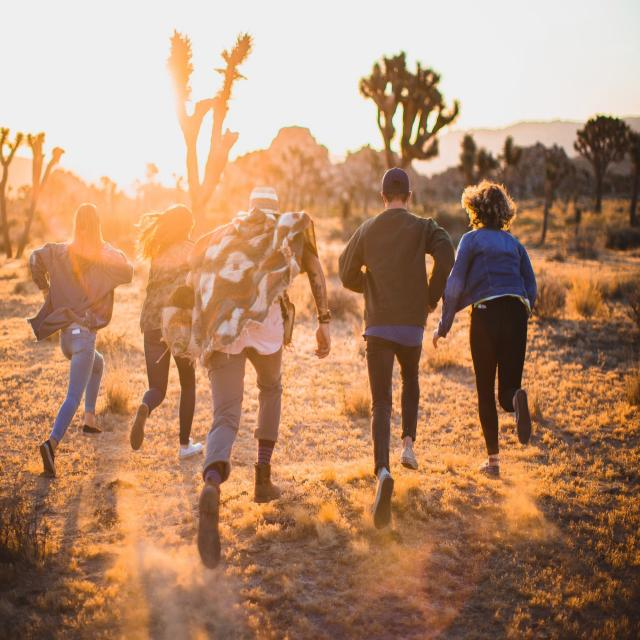adult: (187, 188, 331, 571), (340, 170, 450, 525), (432, 181, 537, 475), (29, 206, 132, 479), (129, 207, 201, 456)
